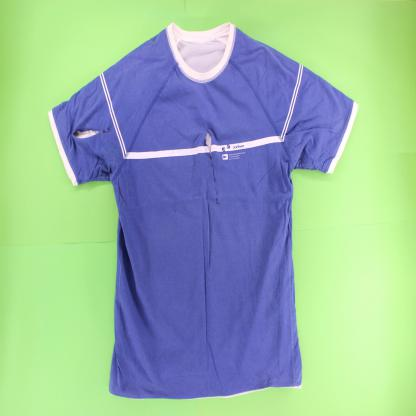hole: (203, 129, 220, 207), (71, 127, 112, 141)
